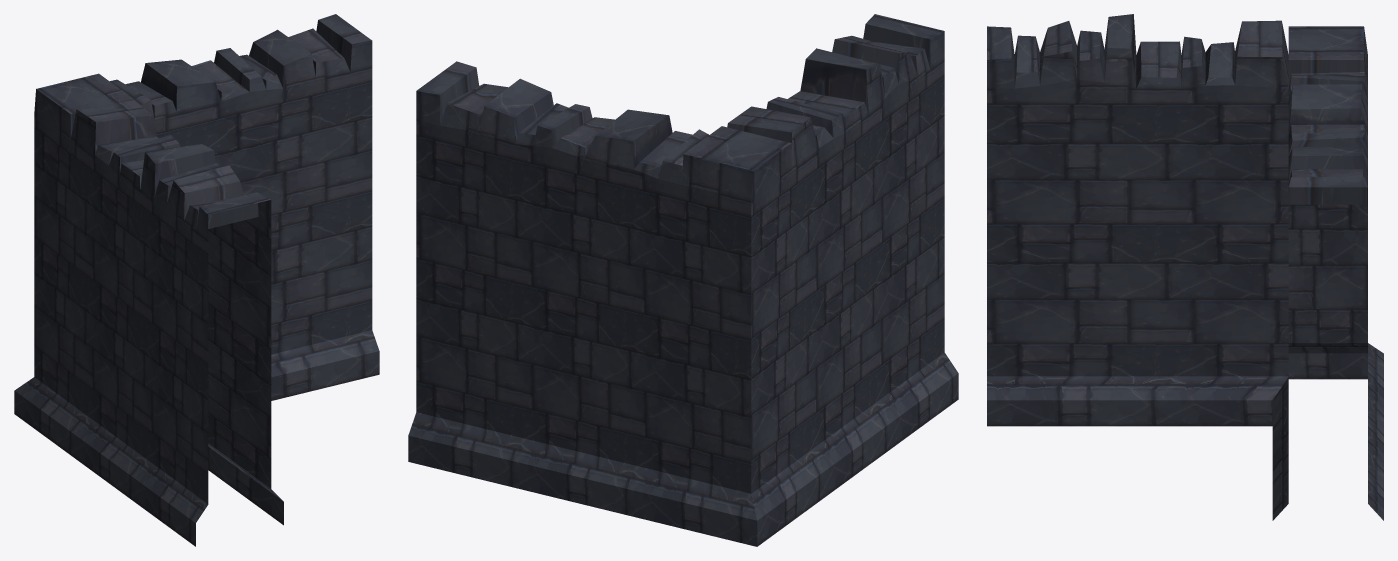
File: Ruins_Corner_001.fbx
3 views of the same model, side by side, from view 1: azimuth 30°, elevation 25°; view 2: azimuth 150°, elevation 25°; view 3: azimuth 270°, elevation 25° (orthographic). The views are drawn at different scales.
Visible parts, largest first — view 1: Ruins_Corner_001; view 2: Ruins_Corner_001; view 3: Ruins_Corner_001.
Boxes of the visible parts, bbox=[...] form: Ruins_Corner_001: bbox=[14, 14, 379, 546]; Ruins_Corner_001: bbox=[408, 14, 958, 546]; Ruins_Corner_001: bbox=[987, 14, 1383, 520].
Bounding box in the file's own units: 5 × 5.2 × 5.
1 material, 1 textured.
